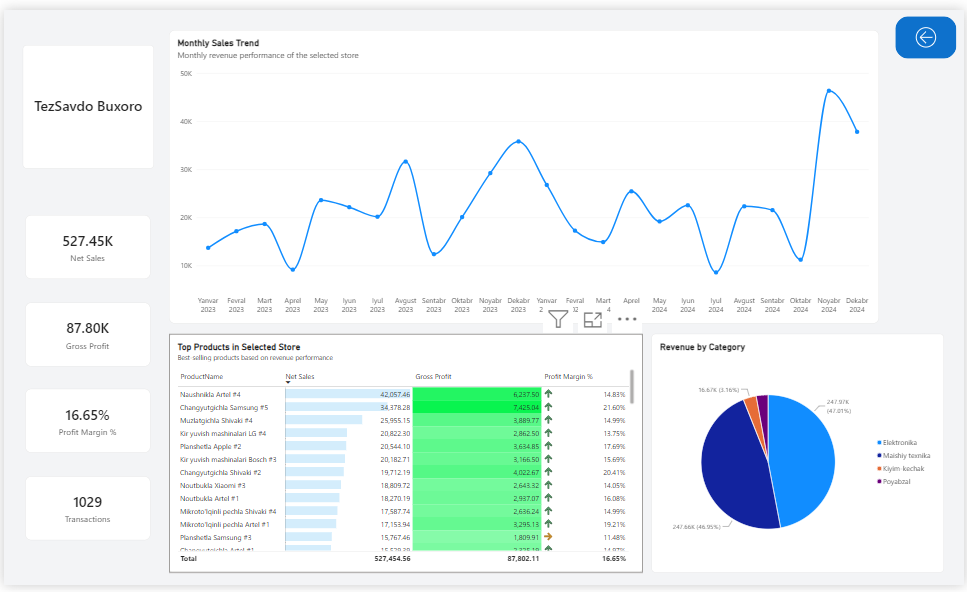

The page's visual inventory and layout, read from the dashboard file:
{"tool":"powerbi","page":{"name":"Store Deep Dive","canvas":[1920,1150],"ordinal":3},"visuals":[{"type":"actionButton","box":[1782.5,12.5,122.5,85],"z":0},{"type":"card","fields":{"Values":["TabelMeasures.Net Sales"]},"box":[42.5,410,250,127.8],"z":0,"group":"g1"},{"type":"lineChart","title":"Monthly Sales Trend ","fields":{"Category":["Dim_Calendar.MonthYear"],"Y":["TabelMeasures.Net Sales"]},"box":[330,40,1420,587.5],"z":1000},{"type":"card","fields":{"Values":["TabelMeasures.Gross Profit"]},"box":[42.5,584.1,250,127.8],"z":1000,"group":"g1"},{"type":"pieChart","title":"Revenue by Category","fields":{"Category":["Dim_Product.Category"],"Y":["TabelMeasures.Net Sales"]},"box":[1295,647.5,585,477.5],"z":2000},{"type":"card","fields":{"Values":["TabelMeasures.Profit Margin %"]},"box":[42.5,758.2,250,127.8],"z":2000,"group":"g1"},{"type":"tableEx","title":"Top Products in Selected Store","fields":{"Values":["Dim_Product.ProductName","TabelMeasures.Net Sales","TabelMeasures.Gross Profit","TabelMeasures.Profit Margin %"]},"box":[330,647.5,947.5,477.5],"z":3000},{"type":"card","fields":{"Values":["TabelMeasures.Transactions"]},"box":[42.5,932.2,250,127.8],"z":3000,"group":"g1"},{"type":"card","fields":{"Values":["Min(Dim_Store.StoreName)"]},"box":[37.5,70,262.5,247.5],"z":5000},{"type":"group","id":"g1","title":"Group 1","box":[42.5,410,250,650],"z":6000}]}

Visuals, with their boxes in screenshot pixels (x1, y1, x2, y2), scaled from the page's 1920x1150 canvas onto the 967x592 screenshot:
actionButton: bbox=(898, 6, 959, 50)
card - TabelMeasures.Net Sales: bbox=(21, 211, 147, 277)
"Monthly Sales Trend " lineChart: bbox=(166, 21, 881, 323)
card - TabelMeasures.Gross Profit: bbox=(21, 301, 147, 366)
"Revenue by Category" pieChart: bbox=(652, 333, 947, 579)
card - TabelMeasures.Profit Margin %: bbox=(21, 390, 147, 456)
"Top Products in Selected Store" tableEx: bbox=(166, 333, 643, 579)
card - TabelMeasures.Transactions: bbox=(21, 480, 147, 546)
card - Min(Dim_Store.StoreName): bbox=(19, 36, 151, 163)
"Group 1" group: bbox=(21, 211, 147, 546)
